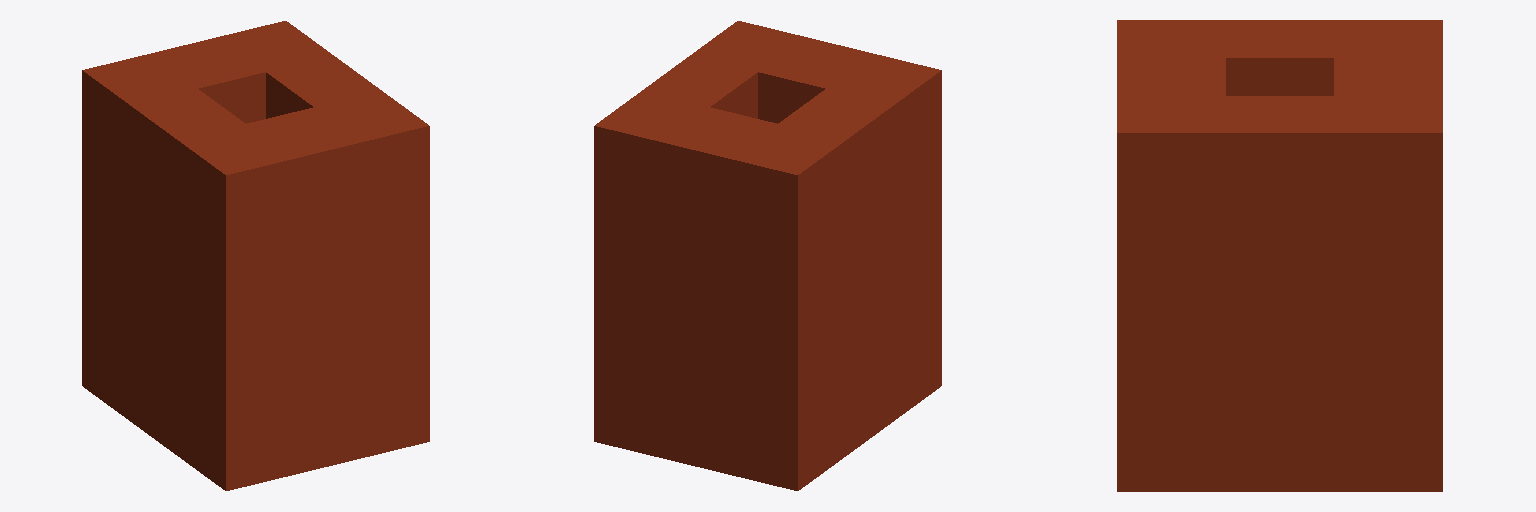
robot.urdf — square_hole:
<robot name="square_hole">

  <link name="base">
    <visual>
      <geometry>
        <box size="0.18 0.22 0.1"/>
      </geometry>
      <material name="brown">
        <color rgba="0.6 0.251 0.137 1"/>
      </material>
    </visual>
    <collision>
      <geometry>
        <box size="0.18 0.22 0.1"/>
      </geometry>
    </collision>
    <inertial>
      <mass value="10"/>
      <inertia ixx="0.4" ixy="0.0" ixz="0.0" iyy="0.4" iyz="0.0" izz="0.2"/>
    </inertial>
    <contact>
      <lateral_friction value="1.0"/>
      <rolling_friction value="0.0"/>
      <contact_cfm value="0.0"/>
      <contact_erp value="1.0"/>
    </contact>
  </link>

  <link name="side1">
    <visual>
      <geometry>
        <box size="0.18 0.22 0.8"/>
      </geometry>
      <origin rpy="0 0 0" xyz="0 0 0.35"/>
      <material name="brown">
        <color rgba="0.6 0.251 0.137 1"/>
      </material>
    </visual>
    <collision>
      <geometry>
        <box size="0.18 0.22 0.8"/>
      </geometry>
      <origin rpy="0 0 0" xyz="0 0 0.35"/>
    </collision>
    <inertial>
      <mass value="10"/>
      <inertia ixx="0.4" ixy="0.0" ixz="0.0" iyy="0.4" iyz="0.0" izz="0.2"/>
    </inertial>
    <contact>
      <lateral_friction value="1.0"/>
      <rolling_friction value="0.0"/>
      <contact_cfm value="0.0"/>
      <contact_erp value="1.0"/>
    </contact>
  </link>

  <link name="side2">
    <visual>
      <geometry>
        <box size="0.18 0.22 0.8"/>
      </geometry>
      <origin rpy="0 0 0" xyz="0 0 0.35"/>
      <material name="brown">
        <color rgba="0.6 0.251 0.137 1"/>
      </material>
    </visual>
    <collision>
      <geometry>
        <box size="0.18 0.22 0.8"/>
      </geometry>
      <origin rpy="0 0 0" xyz="0 0 0.35"/>
    </collision>
    <inertial>
      <mass value="10"/>
      <inertia ixx="0.4" ixy="0.0" ixz="0.0" iyy="0.4" iyz="0.0" izz="0.2"/>
    </inertial>
    <contact>
      <lateral_friction value="1.0"/>
      <rolling_friction value="0.0"/>
      <contact_cfm value="0.0"/>
      <contact_erp value="1.0"/>
    </contact>
  </link>

  <link name="side3">
    <visual>
      <geometry>
        <box size="0.18 0.66 0.8"/>
      </geometry>
      <origin rpy="0 0 0" xyz="0 0 0.35"/>
      <material name="brown">
        <color rgba="0.6 0.251 0.137 1"/>
      </material>
    </visual>
    <collision>
      <geometry>
        <box size="0.0.18 0.66 0.8"/>
      </geometry>
      <origin rpy="0 0 0" xyz="0 0 0.35"/>
    </collision>
    <inertial>
      <mass value="10"/>
      <inertia ixx="0.4" ixy="0.0" ixz="0.0" iyy="0.4" iyz="0.0" izz="0.2"/>
    </inertial>
    <contact>
      <lateral_friction value="1.0"/>
      <rolling_friction value="0.0"/>
      <contact_cfm value="0.0"/>
      <contact_erp value="1.0"/>
    </contact>
  </link>

  <link name="side4">
    <visual>
      <geometry>
        <box size="0.18 0.66 0.8"/>
      </geometry>
      <origin rpy="0 0 0" xyz="0 0 0.35"/>
      <material name="brown">
        <color rgba="0.6 0.251 0.137 1"/>
      </material>
    </visual>
    <collision>
      <geometry>
        <box size="0.18 0.66 0.8"/>
      </geometry>
      <origin rpy="0 0 0" xyz="0 0 0.35"/>
    </collision>
    <inertial>
      <mass value="10"/>
      <inertia ixx="0.4" ixy="0.0" ixz="0.0" iyy="0.4" iyz="0.0" izz="0.2"/>
    </inertial>
    <contact>
      <lateral_friction value="1.0"/>
      <rolling_friction value="0.0"/>
      <contact_cfm value="0.0"/>
      <contact_erp value="1.0"/>
    </contact>
  </link>

  <joint name="base_to_right" type="fixed">
    <parent link="base"/>
    <child link="side1"/>
    <origin xyz="0 0.22 0"/>
  </joint>

  <joint name="base_to_left" type="fixed">
    <parent link="base"/>
    <child link="side2"/>
    <origin xyz="0 -0.22 0"/>
  </joint>

  <joint name="base_to_side3" type="fixed">
    <parent link="base"/>
    <child link="side3"/>
    <origin xyz="-0.18 0 0"/>
  </joint>

  <joint name="base_to_side4" type="fixed">
    <parent link="base"/>
    <child link="side4"/>
    <origin xyz="0.18 0 0"/>
  </joint>


</robot>

--- Render facts (derived) ---
3 views of the same robot in one strip: view 1: azimuth 30°, elevation 25°; view 2: azimuth 150°, elevation 25°; view 3: azimuth 270°, elevation 25° (orthographic).
Model square_hole with 5 links and 4 joints (4 fixed), rooted at base, posed every joint at zero.
Links seen in each view (by area): view 1: side3, side4, side2, side1; view 2: side3, side4, side1, side2; view 3: side4, side3, side1, side2.
Boxes of the visible links, x1,y1,x2,y2 form: side3: [82, 54, 293, 490]; side4: [219, 21, 429, 457]; side2: [247, 107, 361, 474]; side1: [151, 37, 265, 123]; side3: [730, 54, 941, 490]; side4: [594, 21, 804, 457]; side1: [662, 107, 776, 474]; side2: [758, 37, 872, 123]; side4: [1117, 96, 1442, 491]; side3: [1117, 20, 1442, 95]; side1: [1334, 58, 1442, 95]; side2: [1117, 58, 1225, 95].
Bounding box of the posed robot: 0.54 × 0.66 × 0.8 m (x, y, z).
Geometry: primitives only (box / cylinder / sphere), no mesh files.